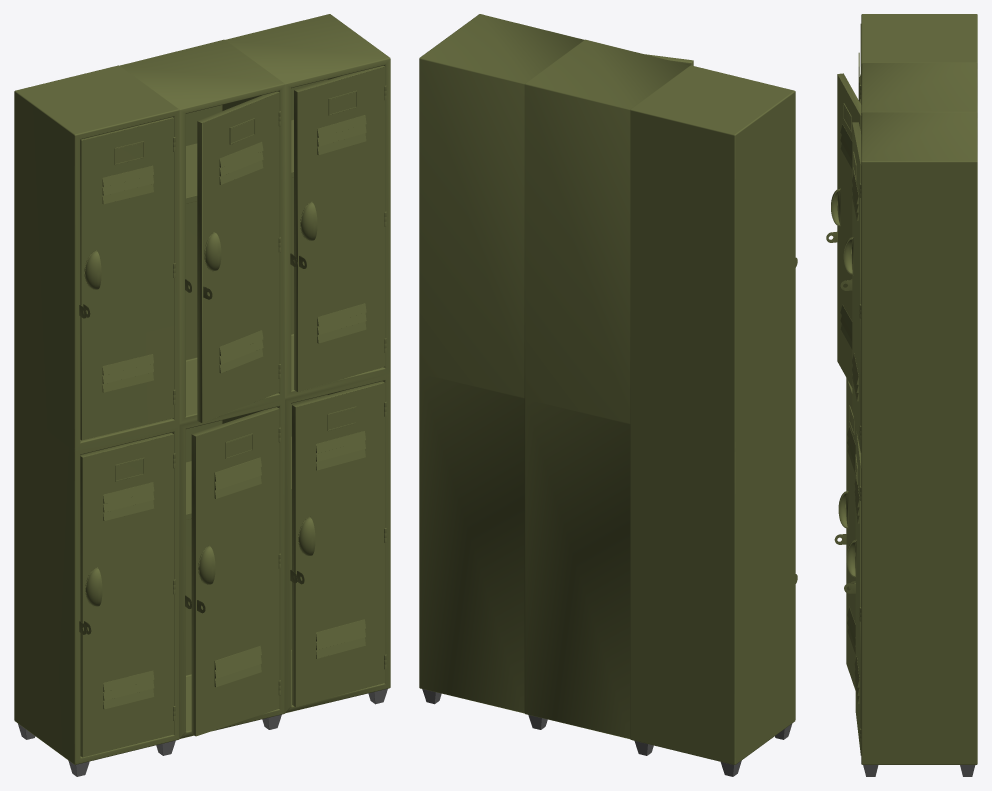
The model's file is industrial_lockers.glb.
3 views of the same model, side by side, from view 1: azimuth 30°, elevation 25°; view 2: azimuth 150°, elevation 25°; view 3: azimuth 270°, elevation 25° (orthographic). The views are drawn at different scales.
Parts seen in each view (by area): view 1: BODY, DOOR.001, DOOR.004, DOOR, DOOR.005, DOOR.002, DOOR.003; view 2: BODY; view 3: BODY, DOOR.003, DOOR.005, DOOR.002, DOOR.004.
Boxes of the visible parts, x1,y1,x2,y2 form: BODY: (14,14,390,776); DOOR.001: (80,432,175,757); DOOR.004: (292,381,386,706); DOOR: (80,117,175,440); DOOR.005: (294,65,386,391); DOOR.002: (191,407,280,736); DOOR.003: (197,91,280,422); BODY: (419,14,797,776); BODY: (849,14,977,776); DOOR.003: (826,73,861,387); DOOR.005: (840,122,861,452); DOOR.002: (834,378,855,690); DOOR.004: (844,428,861,755).
Size of the model in its own units: 1.05 by 2.05 by 0.4551.
